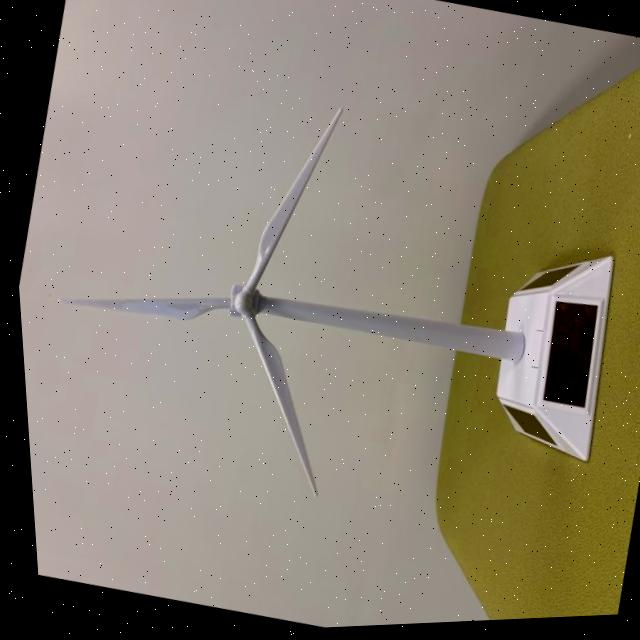solid-blade: (240, 111, 338, 294), (239, 315, 309, 498), (53, 298, 226, 321)
